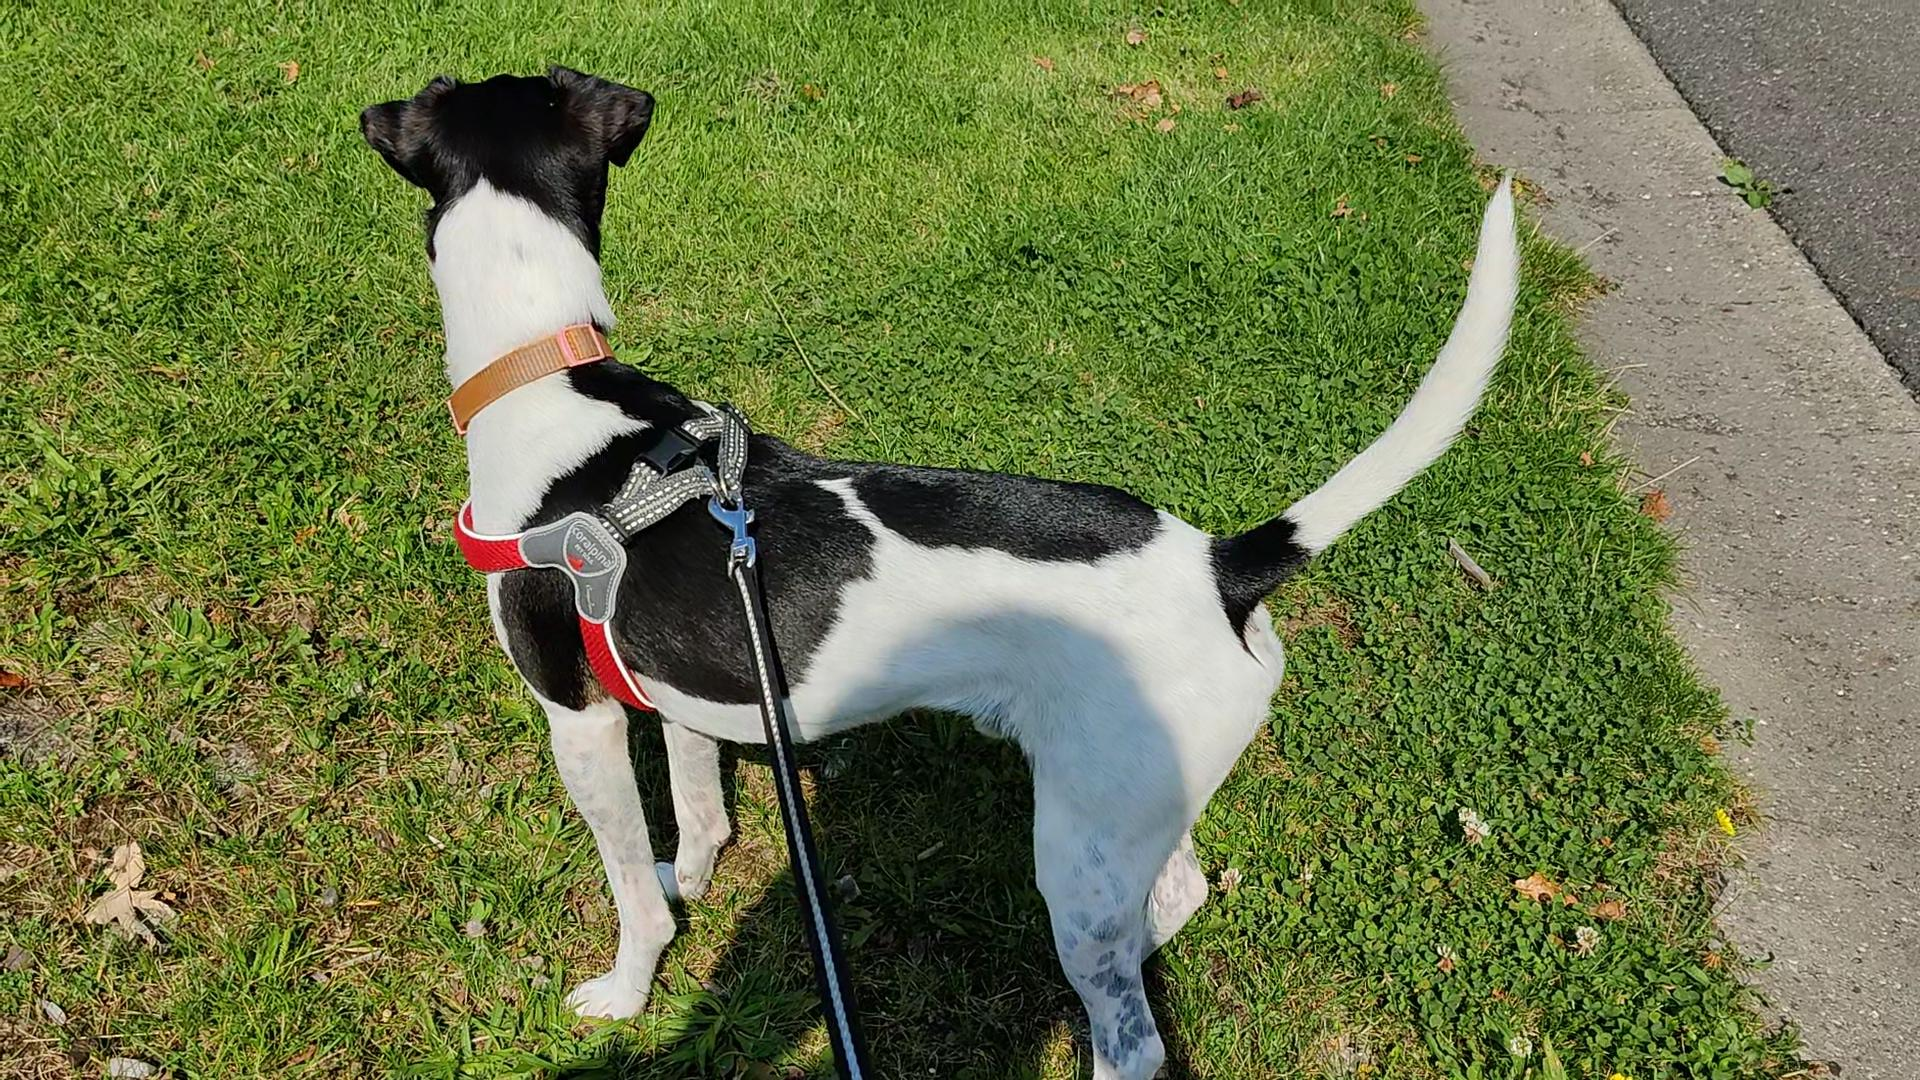Dog: (344, 46, 1534, 1079)
